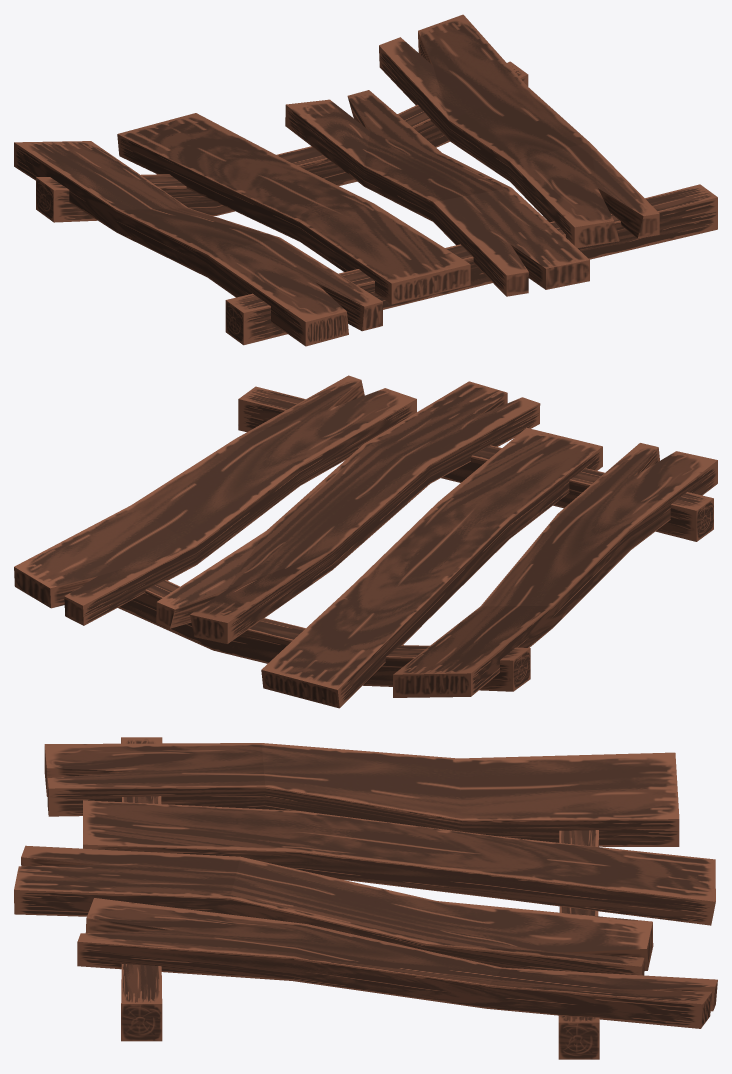
The model's file is Wood_pallete_3.fbx.
3 views of the same model, one above another, from view 1: azimuth 30°, elevation 25°; view 2: azimuth 150°, elevation 25°; view 3: azimuth 270°, elevation 25° (orthographic). The views are drawn at different scales.
Parts seen in each view (by area): view 1: Wood_pallete_3; view 2: Wood_pallete_3; view 3: Wood_pallete_3.
Part boxes in pixels (bbox=[...]): Wood_pallete_3: bbox=[14, 14, 717, 346]; Wood_pallete_3: bbox=[14, 375, 717, 708]; Wood_pallete_3: bbox=[14, 737, 717, 1059].
Bounding box in the file's own units: 2 × 0.3967 × 2.23.
